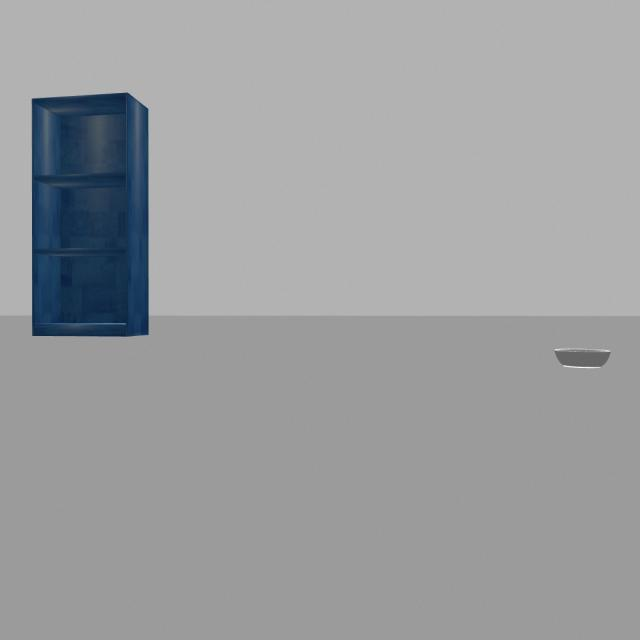bowl: (552, 335, 615, 376)
shelf: (21, 74, 166, 352)
